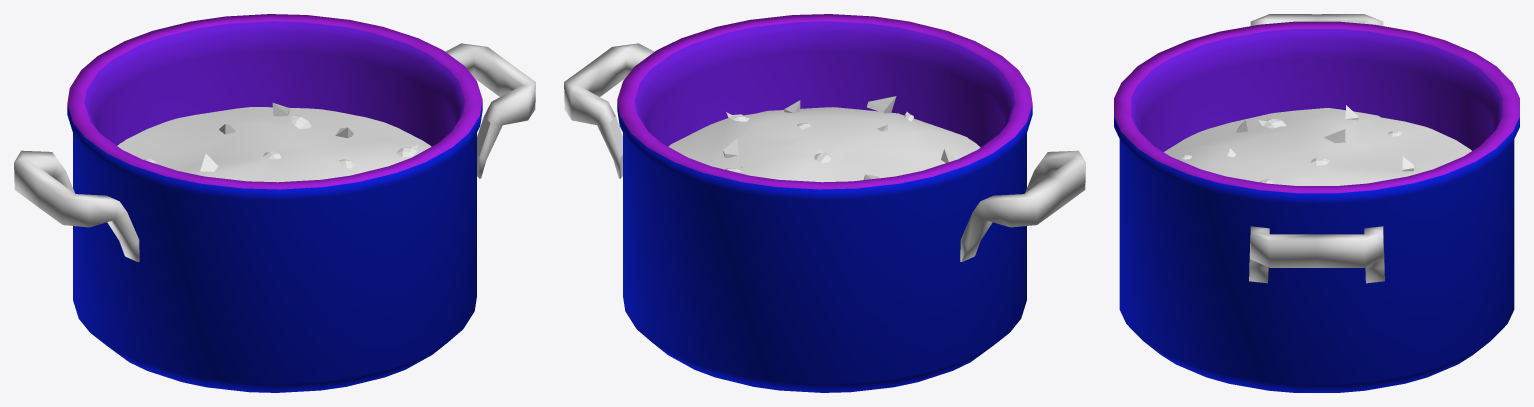
File: Red_Sauce_-_Cooked.fbx
3 views of the same model, side by side, from view 1: azimuth 30°, elevation 25°; view 2: azimuth 150°, elevation 25°; view 3: azimuth 270°, elevation 25° (orthographic).
Visible parts, largest first — view 1: Cylinder.005, Cylinder.008, Cylinder.006, Herbs.001, Tomato Chunks.001; view 2: Cylinder.005, Cylinder.008, Cylinder.006, Tomato Chunks.001, Herbs.001; view 3: Cylinder.005, Cylinder.008, Cylinder.006, Tomato Chunks.001, Herbs.001.
Part boxes in pixels (x1,y1,x2,y2): Cylinder.005: (67, 14, 482, 392); Cylinder.008: (117, 107, 431, 182); Cylinder.006: (14, 43, 535, 261); Herbs.001: (143, 115, 418, 168); Tomato Chunks.001: (200, 103, 353, 171); Cylinder.005: (617, 14, 1032, 392); Cylinder.008: (668, 107, 980, 182); Cylinder.006: (564, 43, 1085, 261); Tomato Chunks.001: (723, 96, 956, 179); Herbs.001: (725, 112, 913, 172); Cylinder.005: (1114, 21, 1519, 392); Cylinder.008: (1164, 108, 1471, 185); Cylinder.006: (1249, 14, 1384, 283); Tomato Chunks.001: (1227, 105, 1413, 171); Herbs.001: (1181, 118, 1402, 183).
Size of the model in its own units: 83.38 by 35.99 by 62.94.
